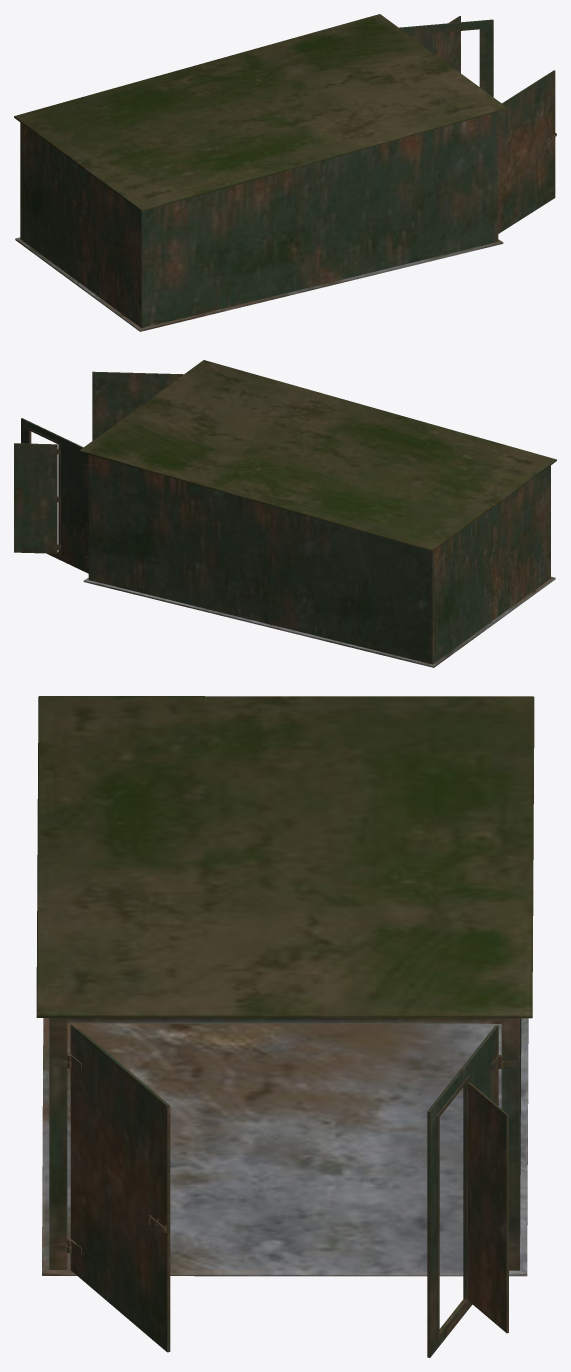
Rendered from garage_metal_1.glb.
3 renders of one model, top to bottom at view 1: azimuth 30°, elevation 25°; view 2: azimuth 150°, elevation 25°; view 3: azimuth 270°, elevation 25°, orthographic. The views are drawn at different scales.
Visible parts, largest first — view 1: garage_metal_1; view 2: garage_metal_1; view 3: garage_metal_1.
Part boxes in pixels (x1,y1,x2,y2): garage_metal_1: (14,14,556,331); garage_metal_1: (14,360,556,667); garage_metal_1: (36,696,534,1357).
Size of the model in its own units: 7.12 by 2.05 by 3.5.
Materials: 1 (1 with a texture image).
